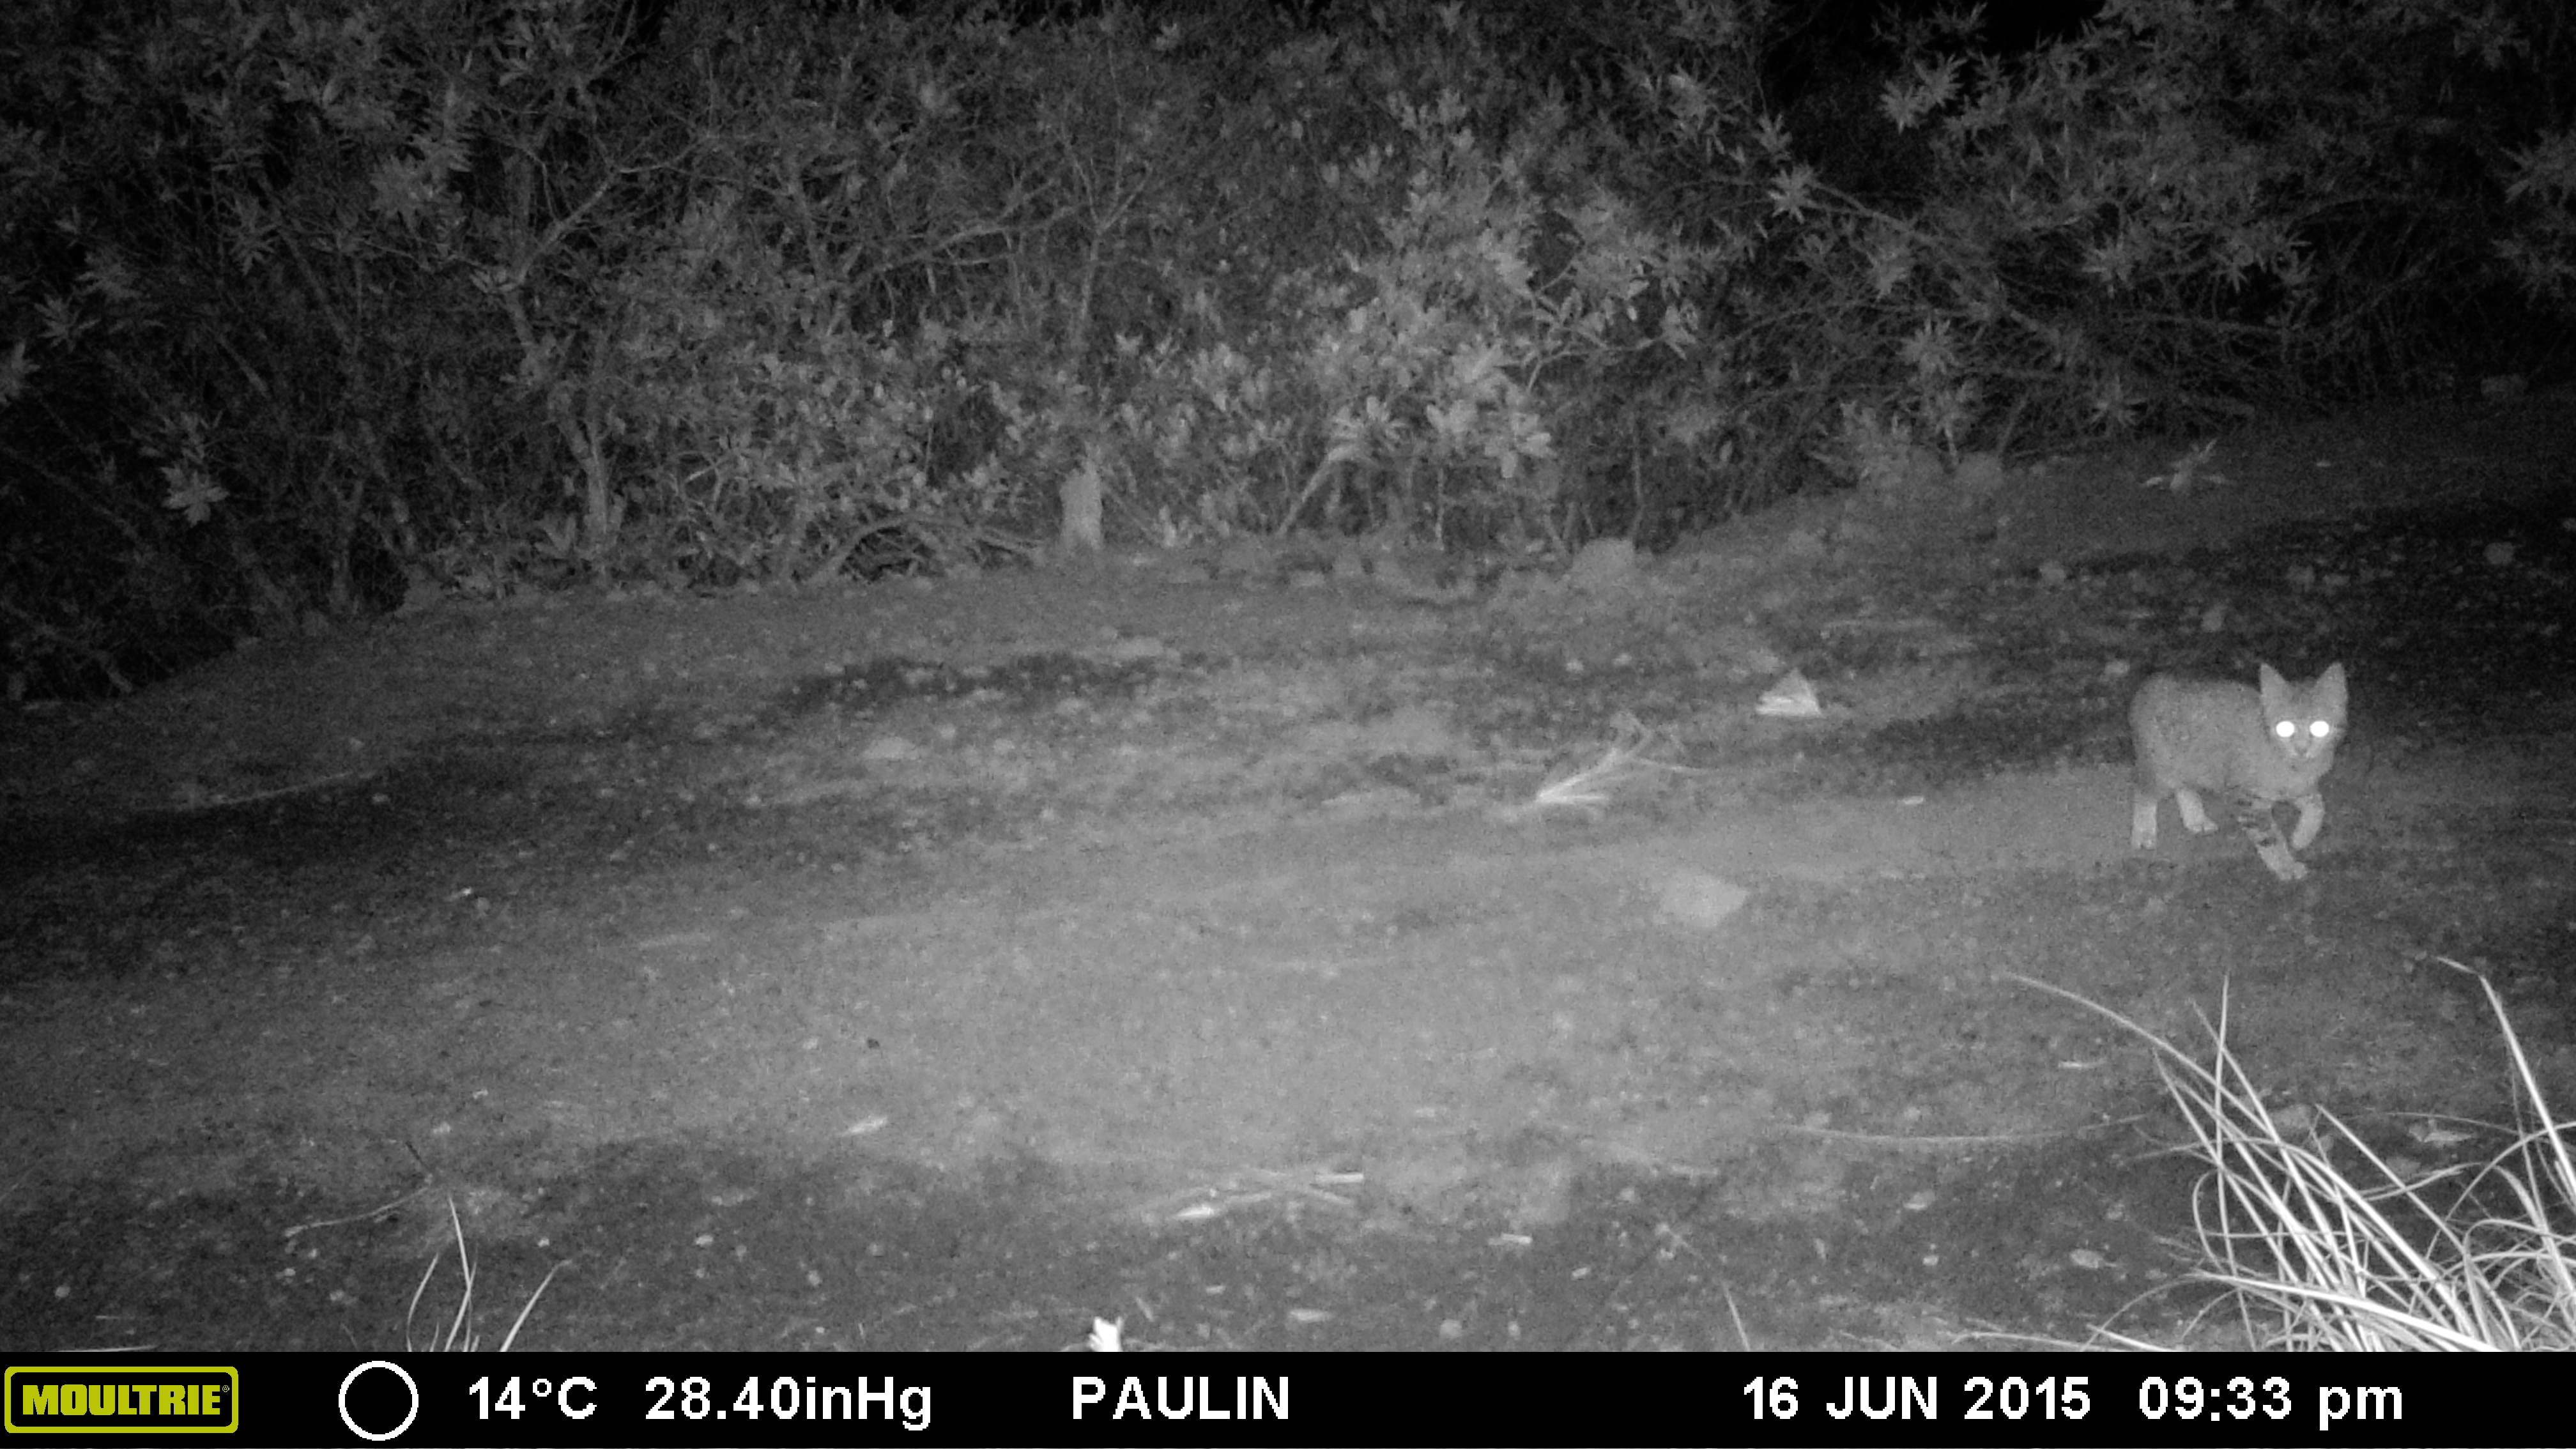cat: (2107, 646, 2360, 906)
